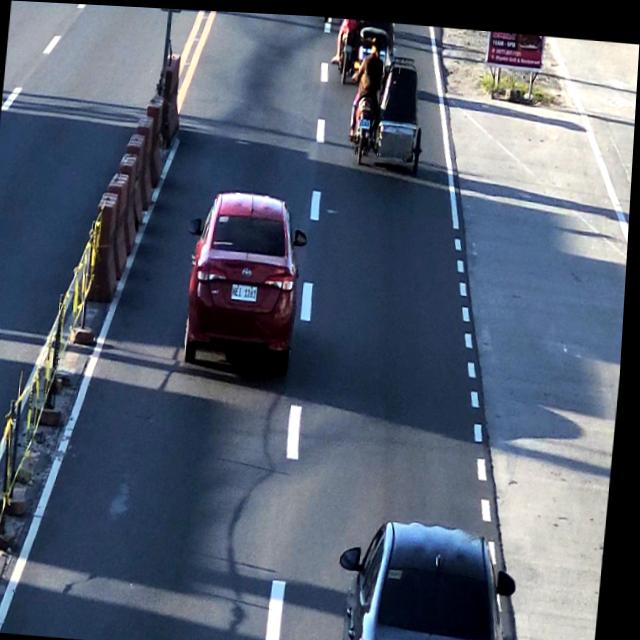Car: (351, 513, 536, 640), (183, 189, 304, 374)
License-Plate: (229, 277, 263, 299), (356, 116, 372, 125)
Tricycle: (350, 25, 424, 167)
